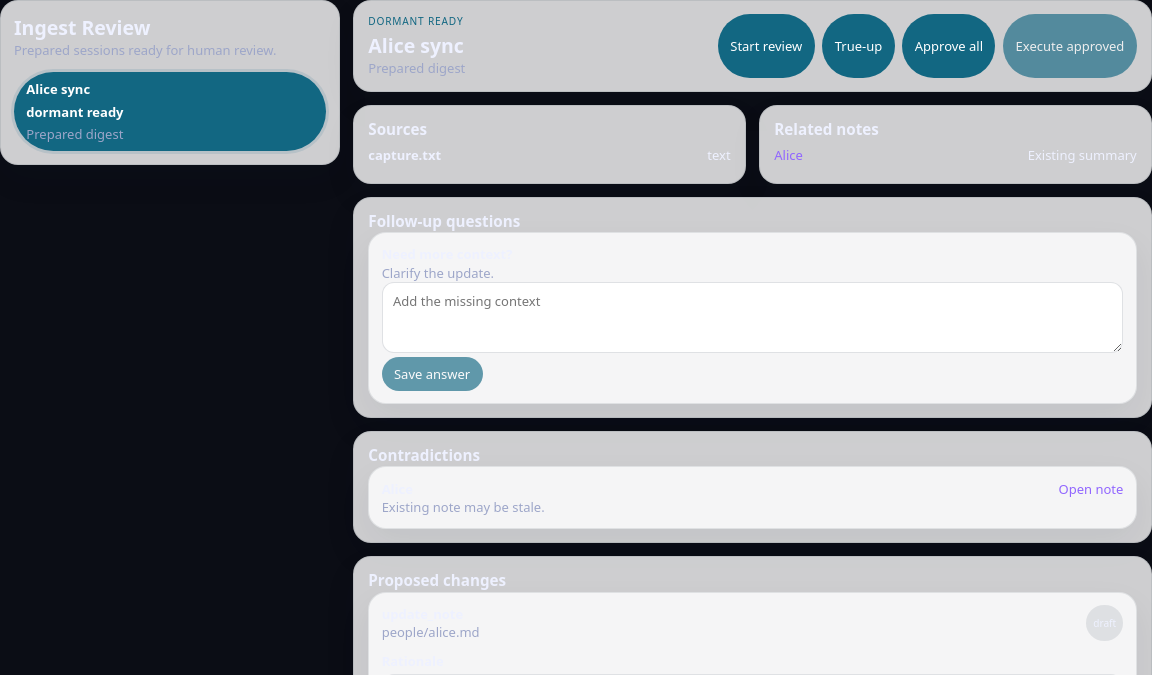
Test: IngestReviewScreen › renders failed execution summaries
The width and height of the screenshot is (1152, 675).
Click the button "Approve all" at (949, 46), box [902,14,995,78]
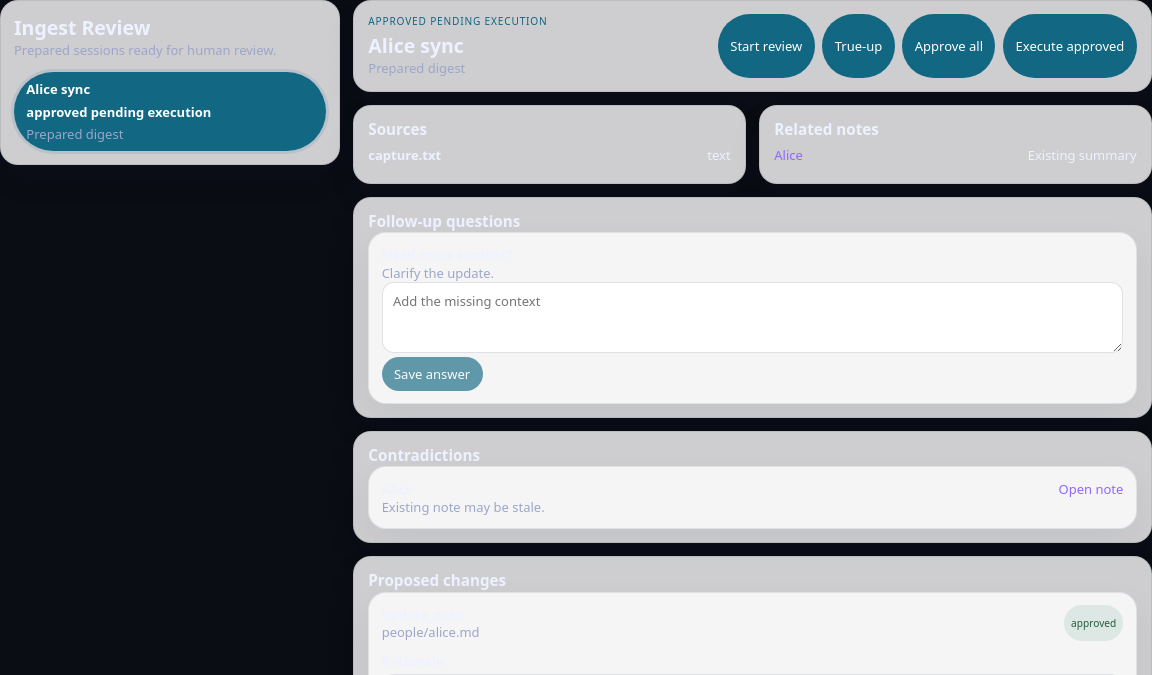
Click the button "Execute approved" at (1070, 46), box [1003,14,1137,78]
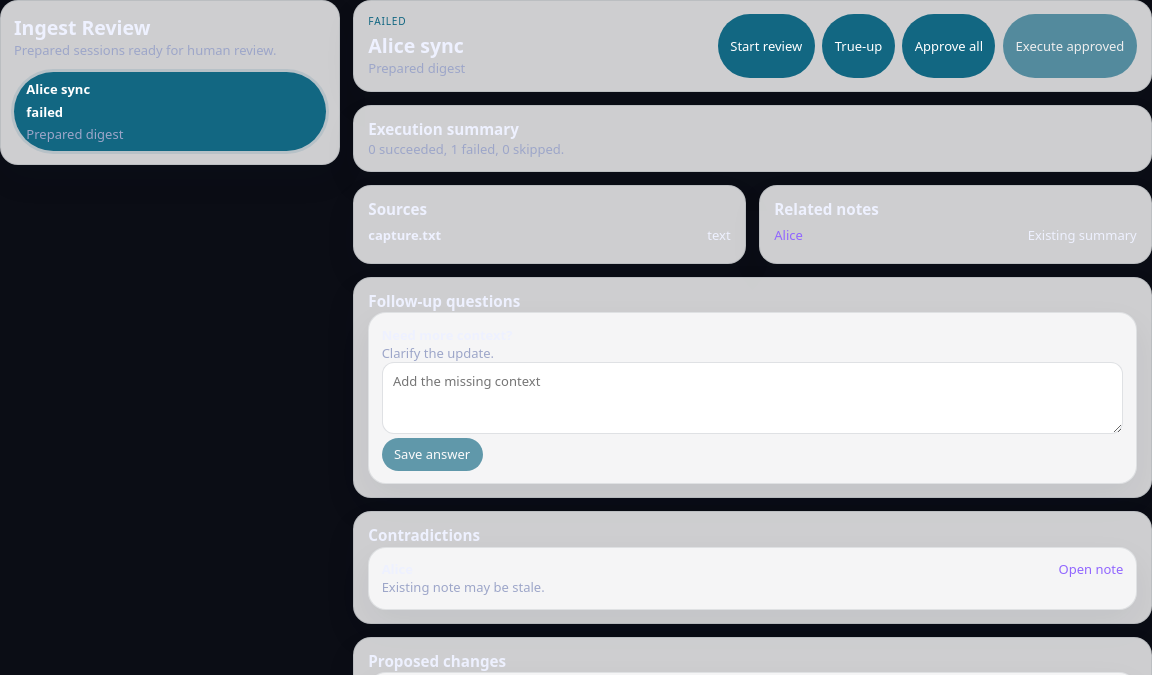
Expected: the element with test id "execution-summary" shows "0 succeeded, 1 failed, 0 skipped.", [353,105,1151,172]
